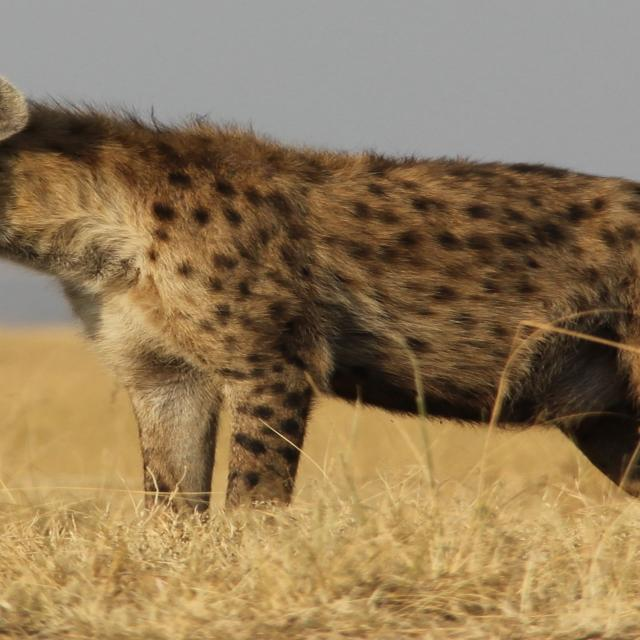Hyena: (2, 77, 640, 514)
